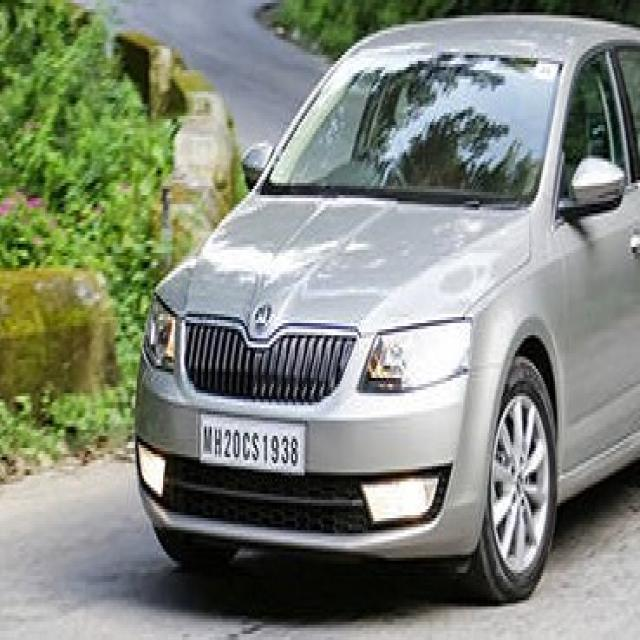Plate: (199, 410, 305, 471)
